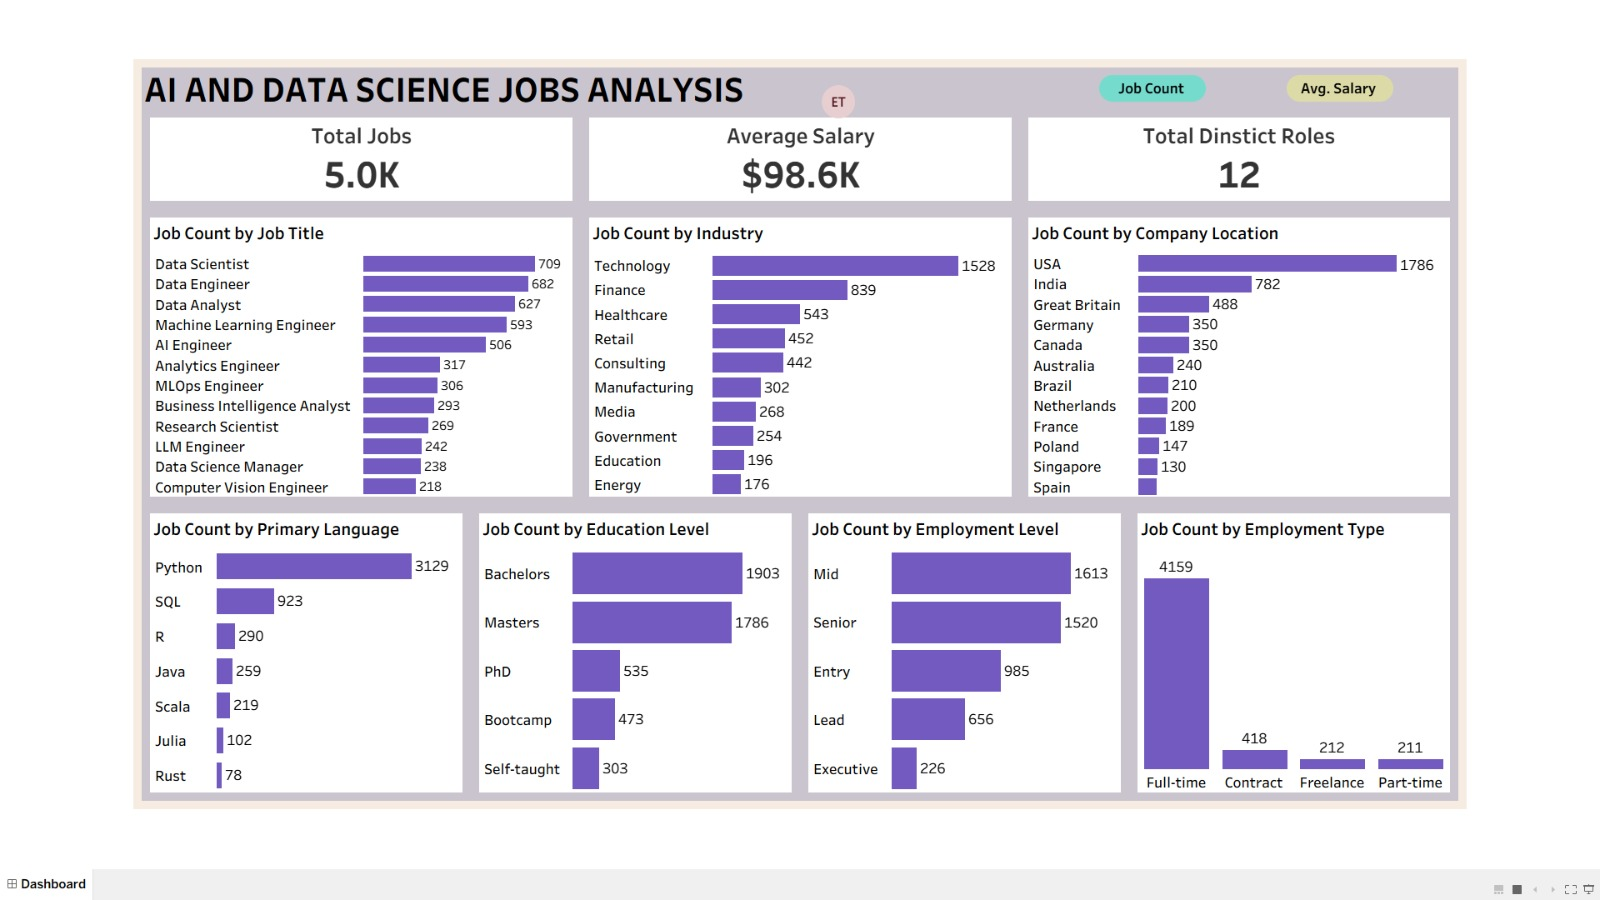

What the dashboard file says about the page in this screenshot:
{"tool":"tableau","page":{"name":"Dashboard","canvas":[1600,900],"ordinal":0},"visuals":[{"type":"text","box":[10,10,1100,44]},{"type":"worksheet","title":"Buttons","mark":"Shape","cols":["Calculation_1274920644902921","Calculation_1274920644902921"],"box":[1110,10,450,50]},{"type":"worksheet","title":"Job KPI","mark":"Automatic","box":[20,70,507,100]},{"type":"worksheet","title":"Salary KPI","mark":"Automatic","box":[547,70,507,100]},{"type":"worksheet","title":"Job Titles KPI","mark":"Automatic","box":[1074,70,506,100]},{"type":"worksheet","title":"Job Title","mark":"Automatic","rows":["job_title"],"cols":["Calculation_1274920629760001"],"box":[20,190,507,335]},{"type":"worksheet","title":"Industry","mark":"Automatic","rows":["industry"],"cols":["Calculation_1274920629760001"],"box":[547,190,507,335]},{"type":"worksheet","title":"Comp Loc","mark":"Automatic","rows":["company_loc"],"cols":["Calculation_1274920629760001"],"box":[1074,190,506,335]},{"type":"worksheet","title":"Primary Language","mark":"Automatic","rows":["primary_language"],"cols":["Calculation_1274920629760001"],"box":[20,545,375,335]},{"type":"worksheet","title":"Education Level","mark":"Automatic","rows":["Calculation_1274920629760001"],"cols":["education_level"],"box":[415,545,375,335]},{"type":"worksheet","title":"Experience","mark":"Automatic","rows":["Calculation_1274920629760001"],"cols":["experience_level"],"box":[810,545,375,335]},{"type":"worksheet","title":"Employment Type","mark":"Automatic","rows":["Calculation_1274920629760001"],"cols":["employment_type"],"box":[1205,545,375,335]}]}

Visuals, with their boxes on the page's 1600x900 design canvas (x1, y1, x2, y2). These are canvas units, not pixel positions in the 1600x900 screenshot, which may show the page scaled, cropped or inside an application window:
text: <bbox>10, 10, 1110, 54</bbox>
"Buttons" worksheet (Shape marks): <bbox>1110, 10, 1560, 60</bbox>
"Job KPI" worksheet: <bbox>20, 70, 527, 170</bbox>
"Salary KPI" worksheet: <bbox>547, 70, 1054, 170</bbox>
"Job Titles KPI" worksheet: <bbox>1074, 70, 1580, 170</bbox>
"Job Title" worksheet: <bbox>20, 190, 527, 525</bbox>
"Industry" worksheet: <bbox>547, 190, 1054, 525</bbox>
"Comp Loc" worksheet: <bbox>1074, 190, 1580, 525</bbox>
"Primary Language" worksheet: <bbox>20, 545, 395, 880</bbox>
"Education Level" worksheet: <bbox>415, 545, 790, 880</bbox>
"Experience" worksheet: <bbox>810, 545, 1185, 880</bbox>
"Employment Type" worksheet: <bbox>1205, 545, 1580, 880</bbox>
